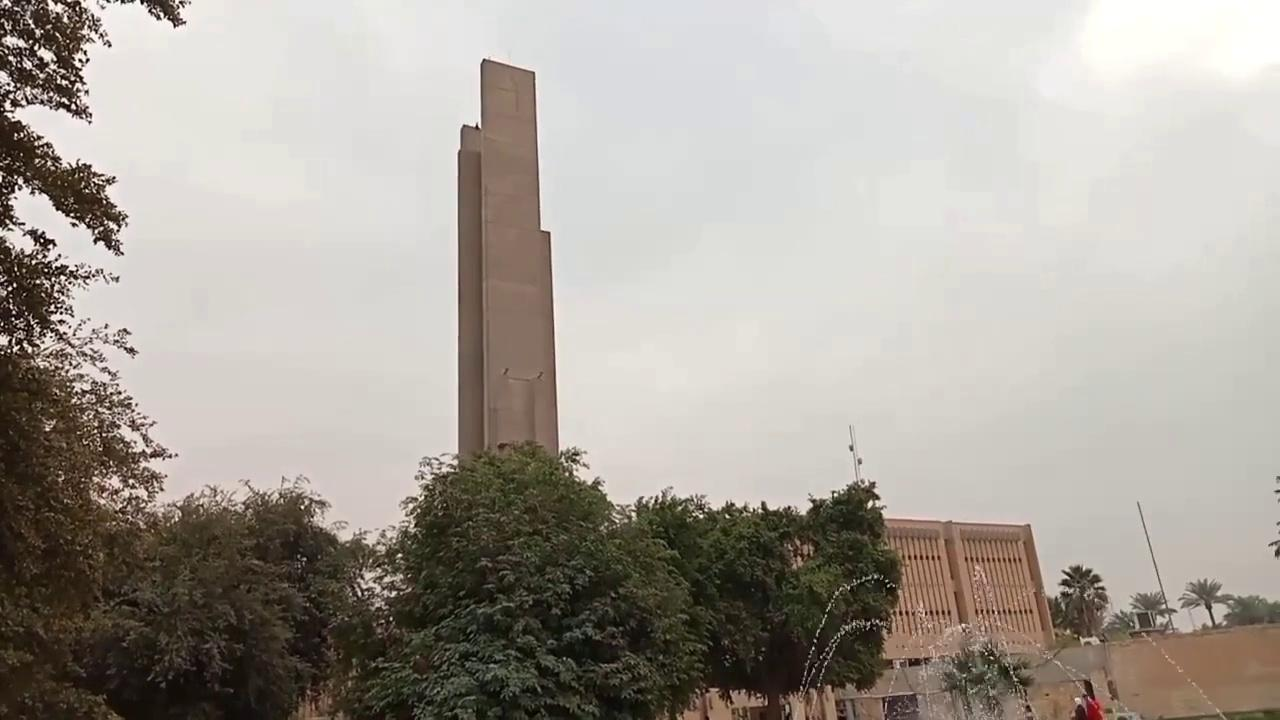person: (1081, 691, 1105, 719), (1069, 695, 1088, 719)
tree: (0, 0, 191, 718), (356, 437, 710, 718), (83, 472, 378, 718), (626, 477, 904, 718), (230, 473, 379, 717), (934, 636, 1037, 718), (1055, 562, 1109, 638), (1178, 576, 1232, 626), (1128, 590, 1174, 629), (1223, 593, 1278, 625), (1267, 473, 1279, 560), (1103, 608, 1134, 635)
